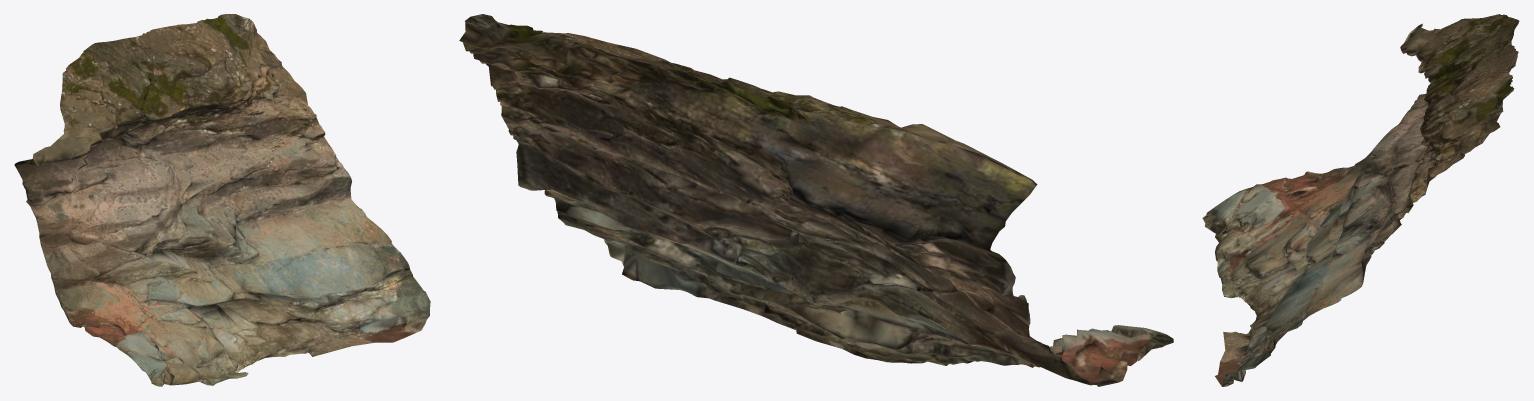
The model's file is rock_face_01.glb.
The picture shows the model from 3 angles, left to right: view 1: azimuth 30°, elevation 25°; view 2: azimuth 150°, elevation 25°; view 3: azimuth 270°, elevation 25°; orthographic projection. The views are drawn at different scales.
Visible parts, largest first — view 1: rock_face_01; view 2: rock_face_01; view 3: rock_face_01.
Part boxes in pixels (x1,y1,x2,y2): rock_face_01: [14, 14, 430, 386]; rock_face_01: [459, 14, 1173, 386]; rock_face_01: [1202, 14, 1519, 386].
Size of the model in its own units: 4.95 by 3.56 by 3.83.
Materials: 1 (1 with a texture image).
